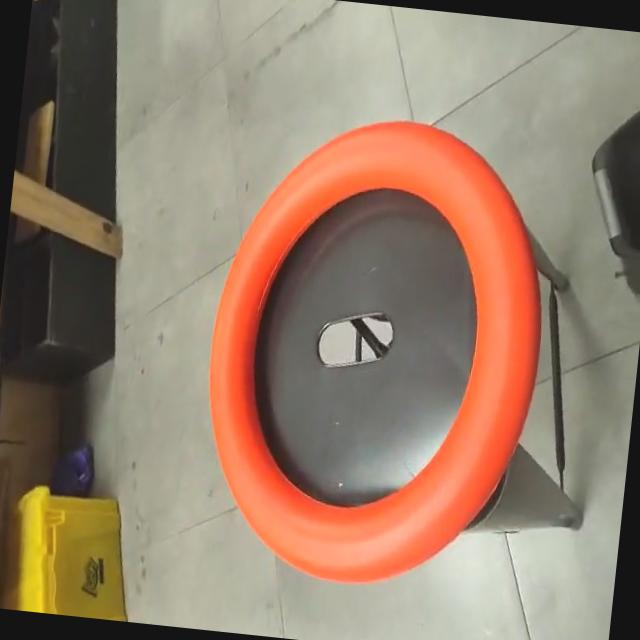note: (185, 98, 566, 600)
